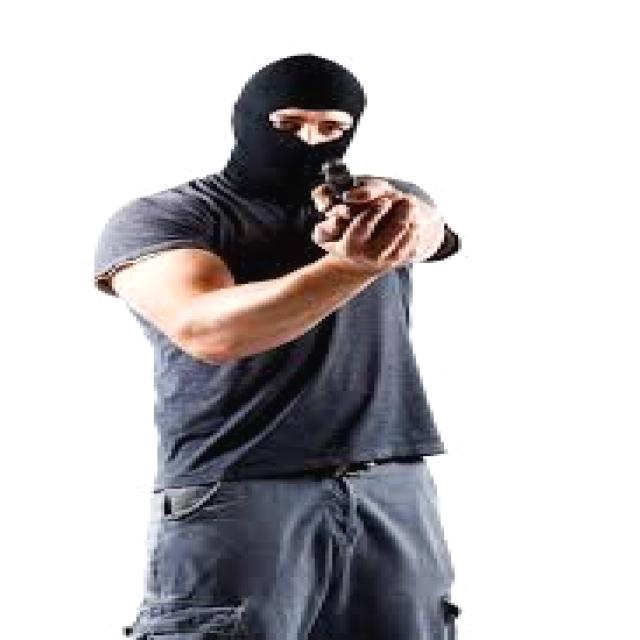pistol: (322, 151, 367, 214)
